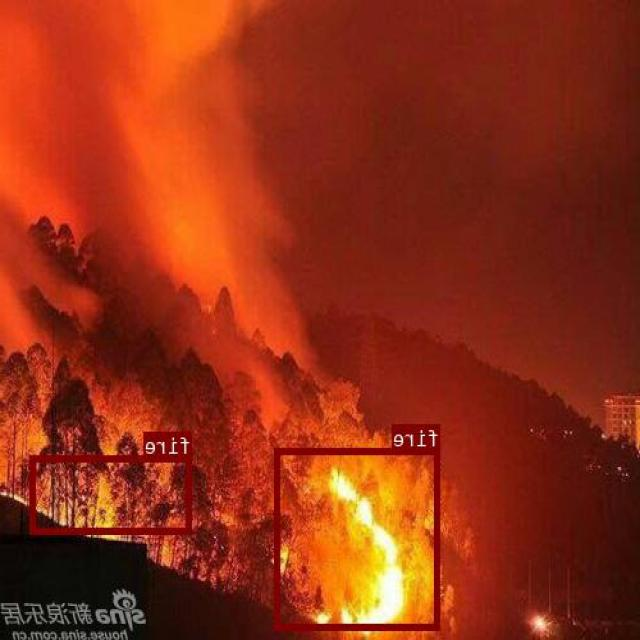fire: (276, 447, 442, 629), (31, 455, 192, 533)
